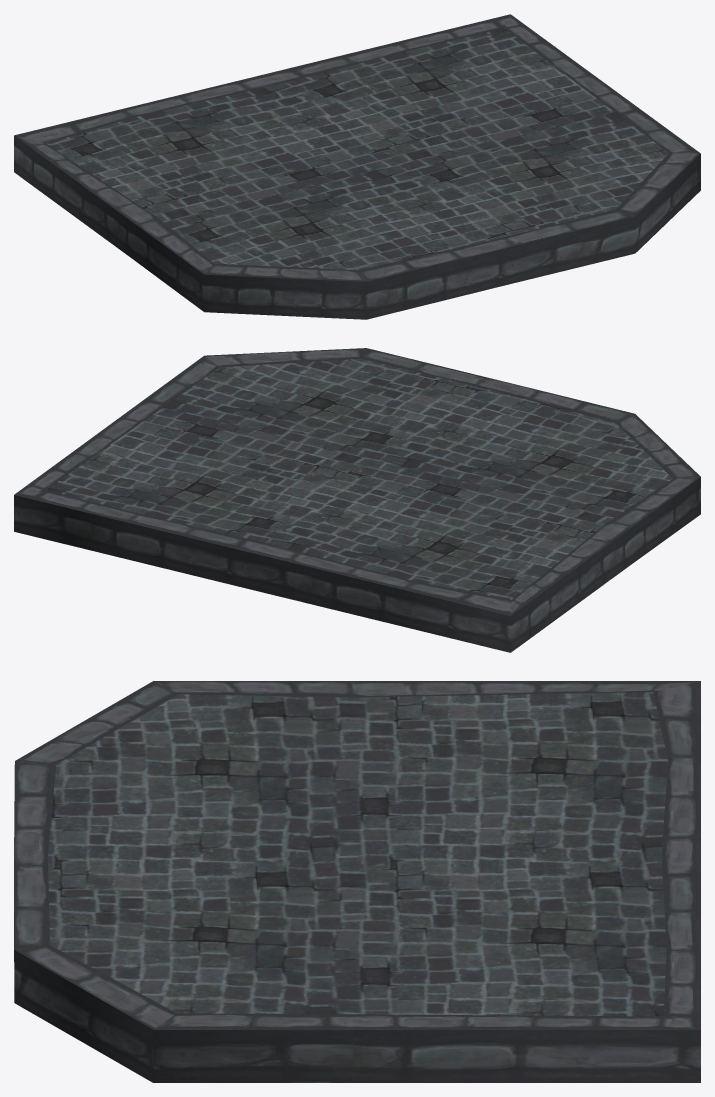
File: terrain_towncenterstone01.fbx
3 views of the same model, one above another, from view 1: azimuth 30°, elevation 25°; view 2: azimuth 150°, elevation 25°; view 3: azimuth 270°, elevation 25° (orthographic). The views are drawn at different scales.
Parts seen in each view (by area): view 1: terrain_towncenterstone01-0; view 2: terrain_towncenterstone01-0; view 3: terrain_towncenterstone01-0.
Boxes of the visible parts, x1=… form: terrain_towncenterstone01-0: x1=14, y1=14, x2=700, y2=319; terrain_towncenterstone01-0: x1=14, y1=348, x2=700, y2=652; terrain_towncenterstone01-0: x1=14, y1=681, x2=700, y2=1082.
Size of the model in its own units: 9.9 by 0.715 by 8.24.
